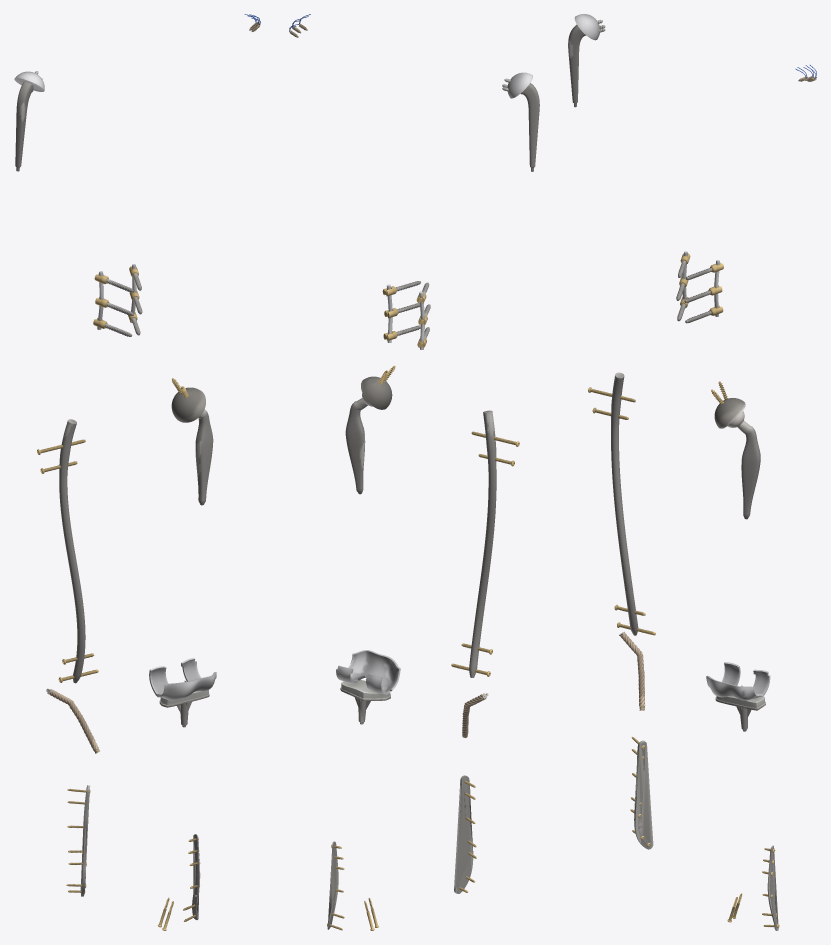
The model's file is skeleton-implants.glb.
3 views of the same model, side by side, from view 1: azimuth 30°, elevation 25°; view 2: azimuth 150°, elevation 25°; view 3: azimuth 330°, elevation 25° (orthographic). The views are drawn at different scales.
Parts seen in each view (by area): view 1: Trauma femoral nail, Knee femoral component, Hip stem, Hip cup coating, Shoulder stem, Implant spine titanium (lumbar), Trauma tibial plate, Implant trauma anodised (thigh.r), Ankle fibular plate; view 2: Trauma femoral nail, Knee femoral component, Trauma tibial plate, Hip stem, Shoulder stem, Hip cup coating, Ankle fibular plate, Implant trauma anodised (thigh.r), Implant spine anodised (lumbar); view 3: Trauma femoral nail, Trauma tibial plate, Knee femoral component, Hip stem, Shoulder stem, Implant spine titanium (lumbar), Ankle fibular plate, Hip cup coating, Implant trauma anodised (thigh.r).
Boxes of the visible parts, x1,y1,x2,y2 form: Trauma femoral nail: (59, 419, 85, 683); Knee femoral component: (149, 657, 216, 700); Hip stem: (195, 409, 213, 505); Hip cup coating: (171, 387, 205, 422); Shoulder stem: (15, 81, 33, 171); Implant spine titanium (lumbar): (104, 273, 142, 336); Trauma tibial plate: (80, 785, 90, 896); Implant trauma anodised (thigh.r): (37, 439, 98, 682); Ankle fibular plate: (192, 834, 200, 919); Trauma femoral nail: (469, 410, 496, 677); Knee femoral component: (336, 650, 400, 694); Trauma tibial plate: (454, 775, 473, 893); Hip stem: (345, 398, 367, 494); Shoulder stem: (520, 83, 539, 171); Hip cup coating: (361, 376, 392, 409); Ankle fibular plate: (327, 841, 338, 929); Implant trauma anodised (thigh.r): (451, 431, 519, 676); Implant spine anodised (lumbar): (382, 286, 427, 347); Trauma femoral nail: (611, 372, 638, 635); Trauma tibial plate: (634, 740, 653, 849); Knee femoral component: (706, 662, 770, 700); Hip stem: (737, 420, 760, 519); Shoulder stem: (568, 24, 585, 107); Implant spine titanium (lumbar): (676, 260, 712, 323); Ankle fibular plate: (767, 845, 778, 930); Hip cup coating: (714, 398, 744, 428); Implant trauma anodised (thigh.r): (588, 387, 655, 635).
Bounding box in the file's own units: 0.3838 × 1.34 × 0.0894.
